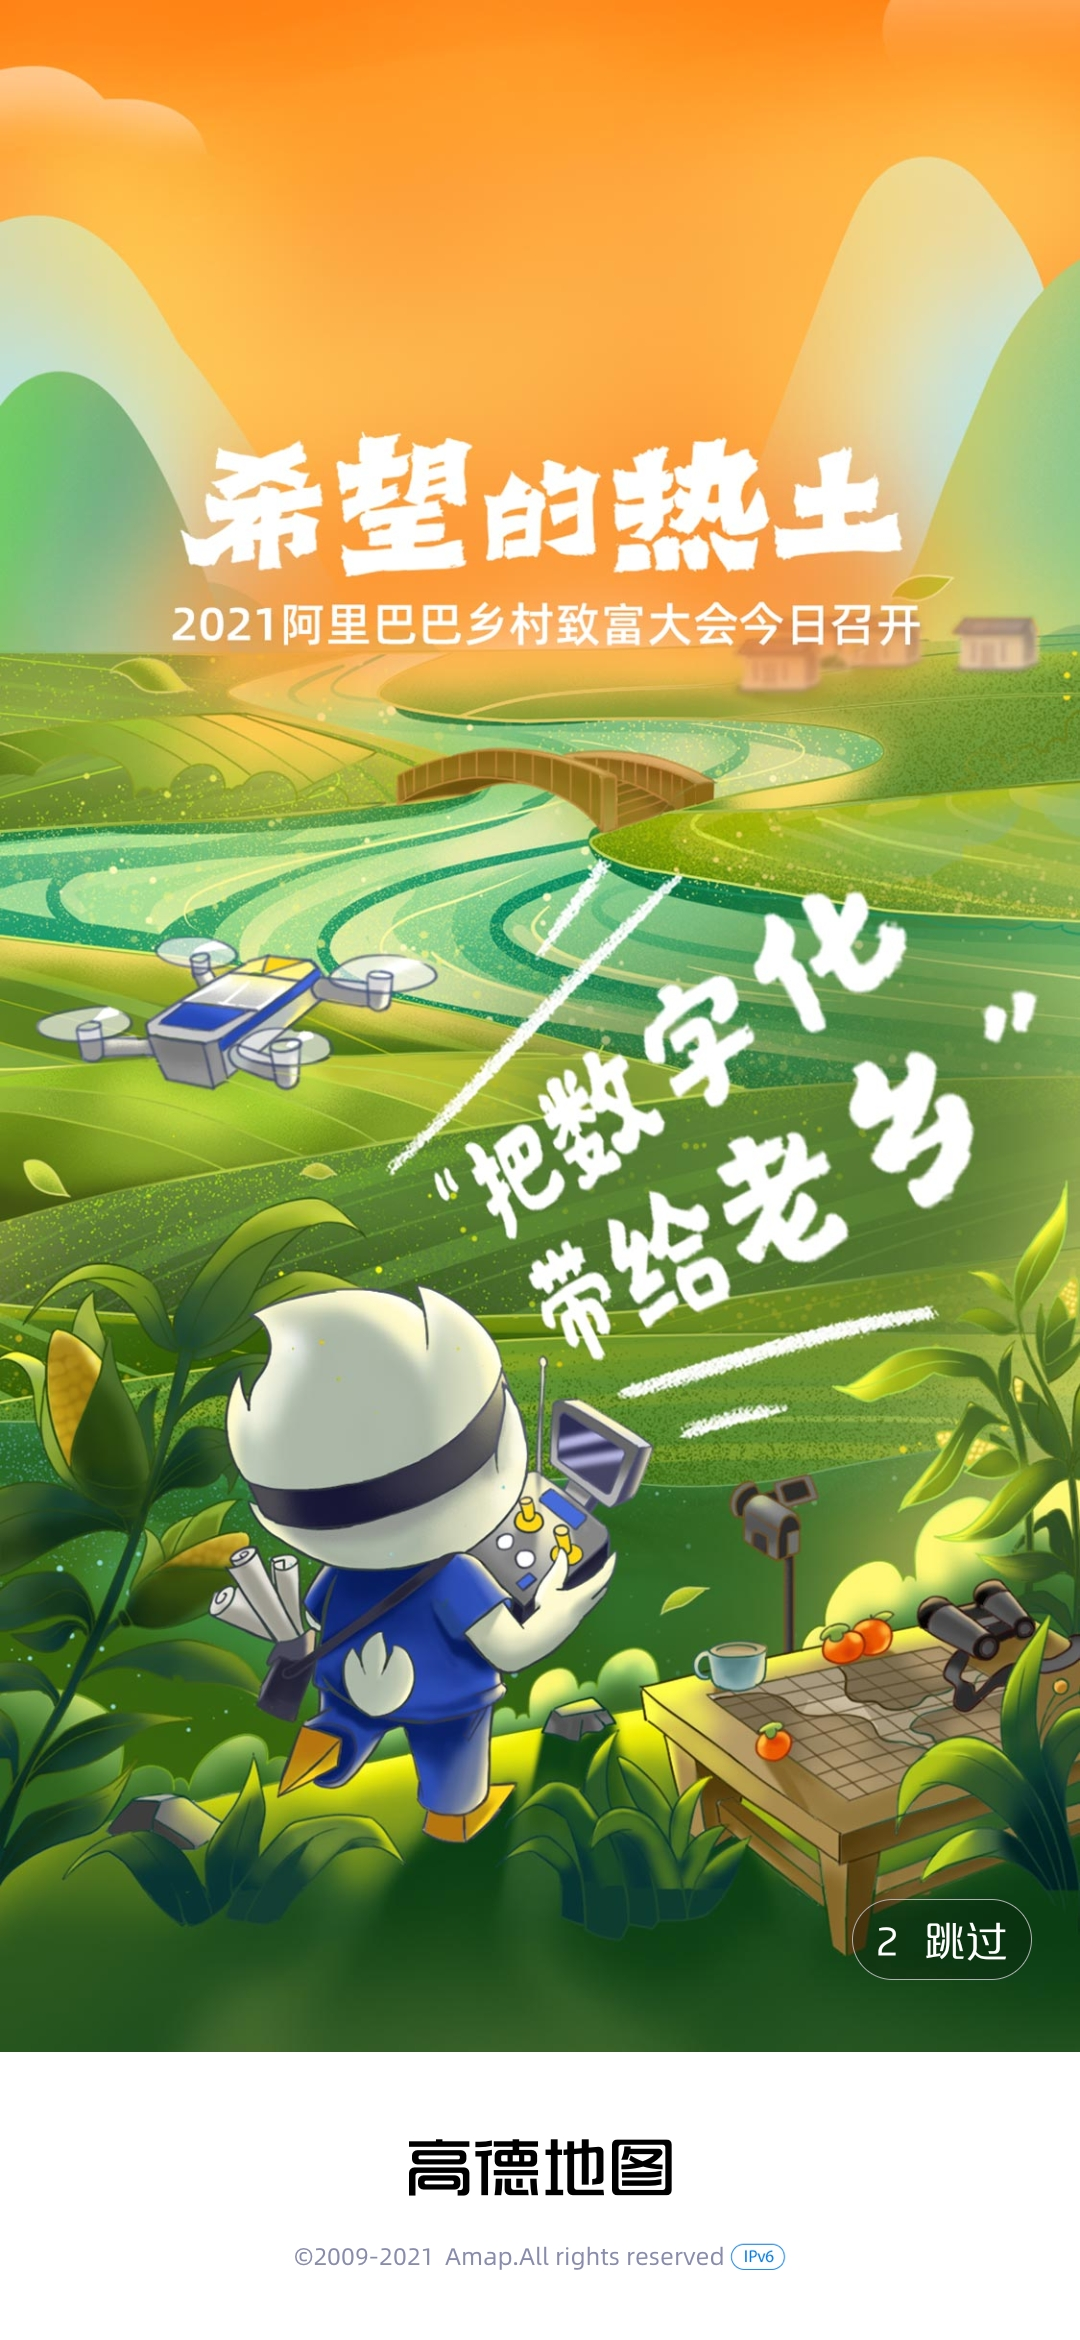skip: (861, 1901, 1016, 1980)
